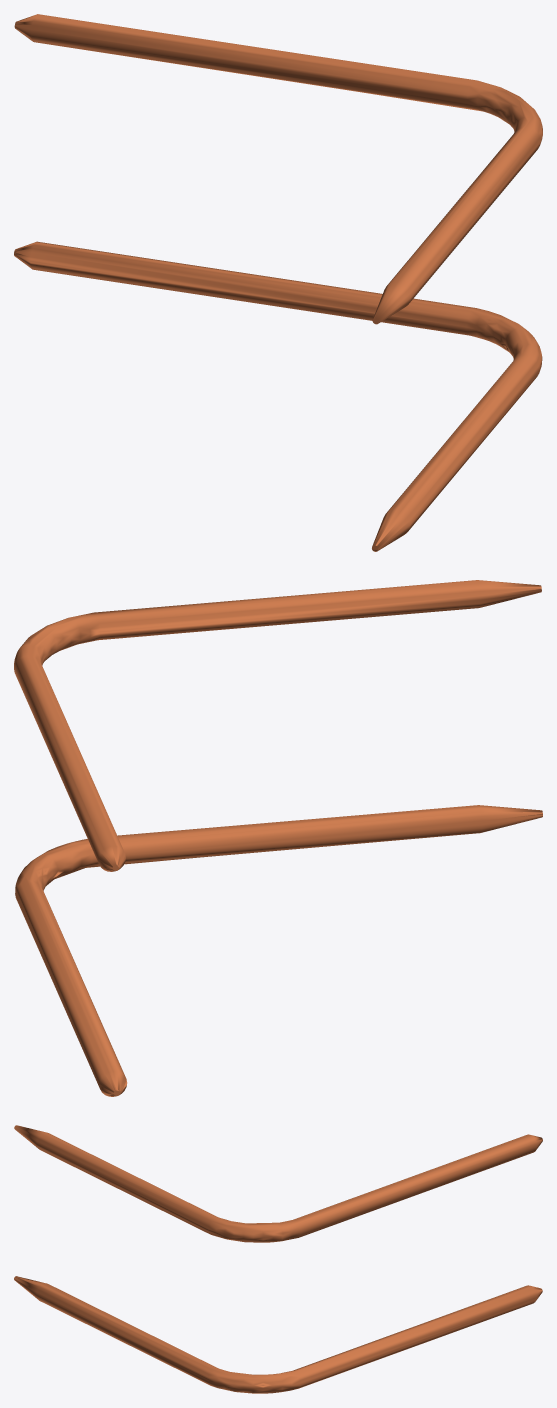
Rendered from anymal_hip_r_1.obj.
3 views of the same model, one above another, from view 1: azimuth 30°, elevation 25°; view 2: azimuth 150°, elevation 25°; view 3: azimuth 270°, elevation 25° (orthographic). The views are drawn at different scales.
Visible parts, largest first — view 1: anymal_hip_r_1; view 2: anymal_hip_r_1; view 3: anymal_hip_r_1.
Part boxes in pixels (x1,y1,x2,y2): anymal_hip_r_1: (14,14,542,551); anymal_hip_r_1: (14,580,542,1096); anymal_hip_r_1: (14,1125,542,1393).
Size of the model in its own units: 0.0544 by 0.0393 by 0.111.
